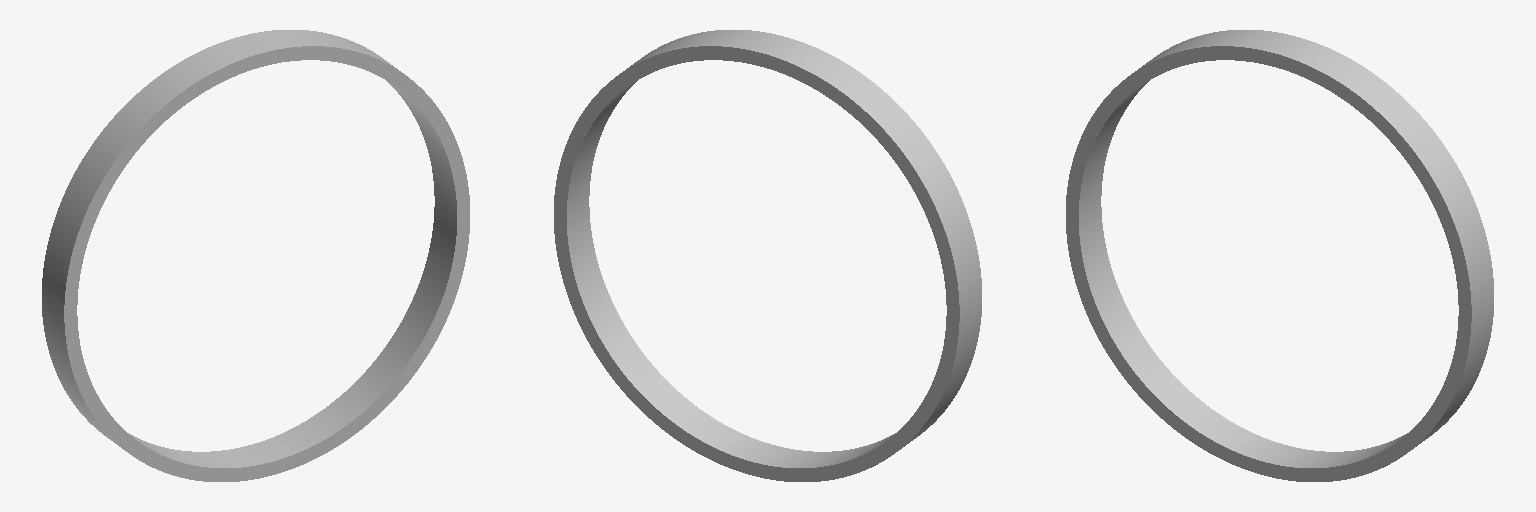
File: coil.obj
The picture shows the model from 3 angles: view 1: azimuth 30°, elevation 25°; view 2: azimuth 150°, elevation 25°; view 3: azimuth 330°, elevation 25°; orthographic projection.
Parts seen in each view (by area): view 1: Cylinder_Cylinder.001; view 2: Cylinder_Cylinder.001; view 3: Cylinder_Cylinder.001.
Boxes of the visible parts, x1=… form: Cylinder_Cylinder.001: x1=42, y1=30, x2=469, y2=481; Cylinder_Cylinder.001: x1=554, y1=30, x2=981, y2=481; Cylinder_Cylinder.001: x1=1066, y1=30, x2=1493, y2=481.
Size of the model in its own units: 0.31 by 0.31 by 0.03.